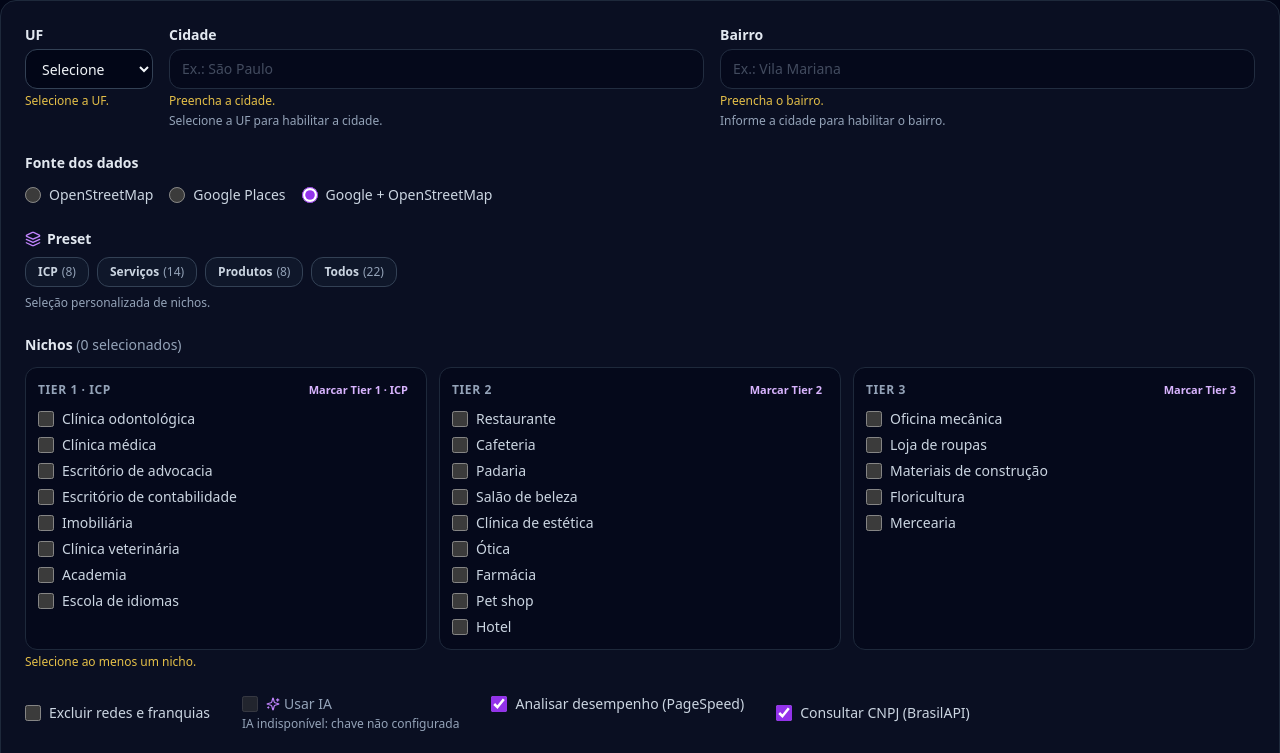
MiningForm — cascata UF → Cidade → Bairro › navega pelo teclado (seta para baixo + Enter) e escolhe a sugestão
Select "SP" in the dropdown labelled "UF" at x=89, y=69, box [25,49,153,89]
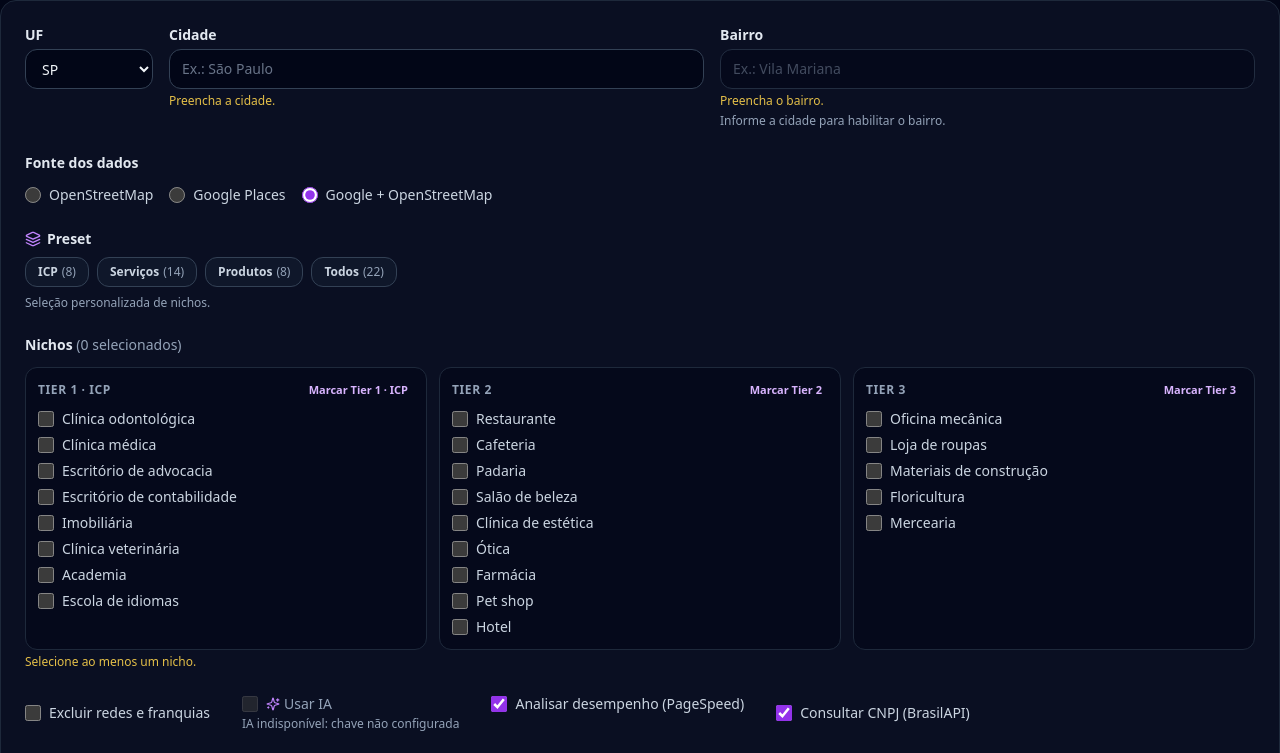
Type "sao" into the dropdown labelled "Cidade" at x=436, y=69, box [169,49,704,89]
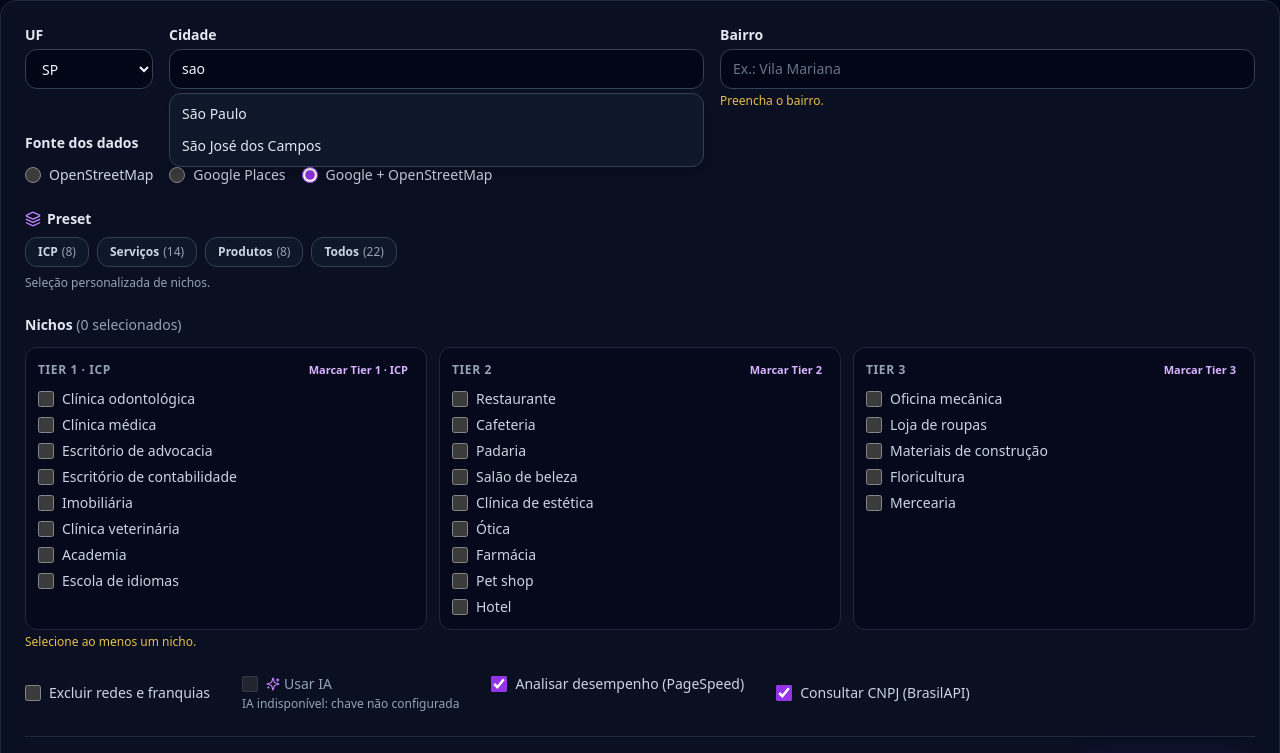
Press ArrowDown in the dropdown labelled "Cidade", box [169,49,704,89]
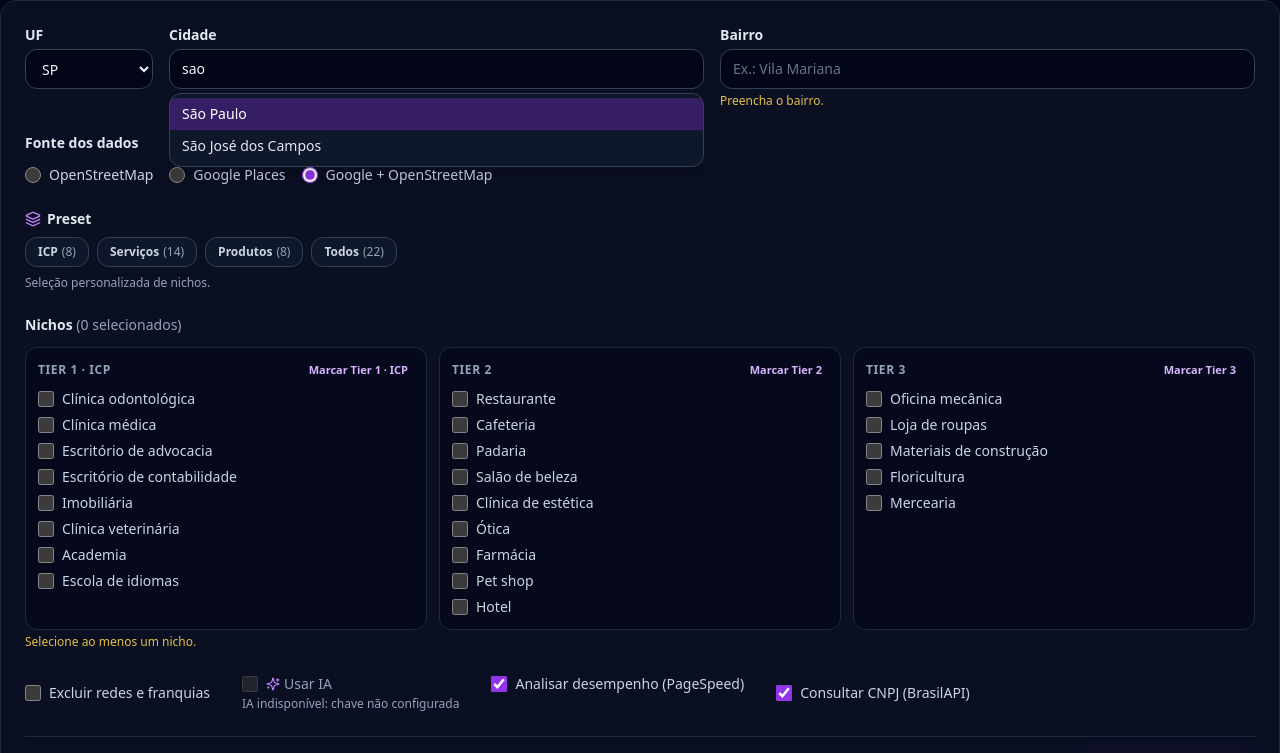
Press ArrowDown in the dropdown labelled "Cidade", box [169,49,704,89]
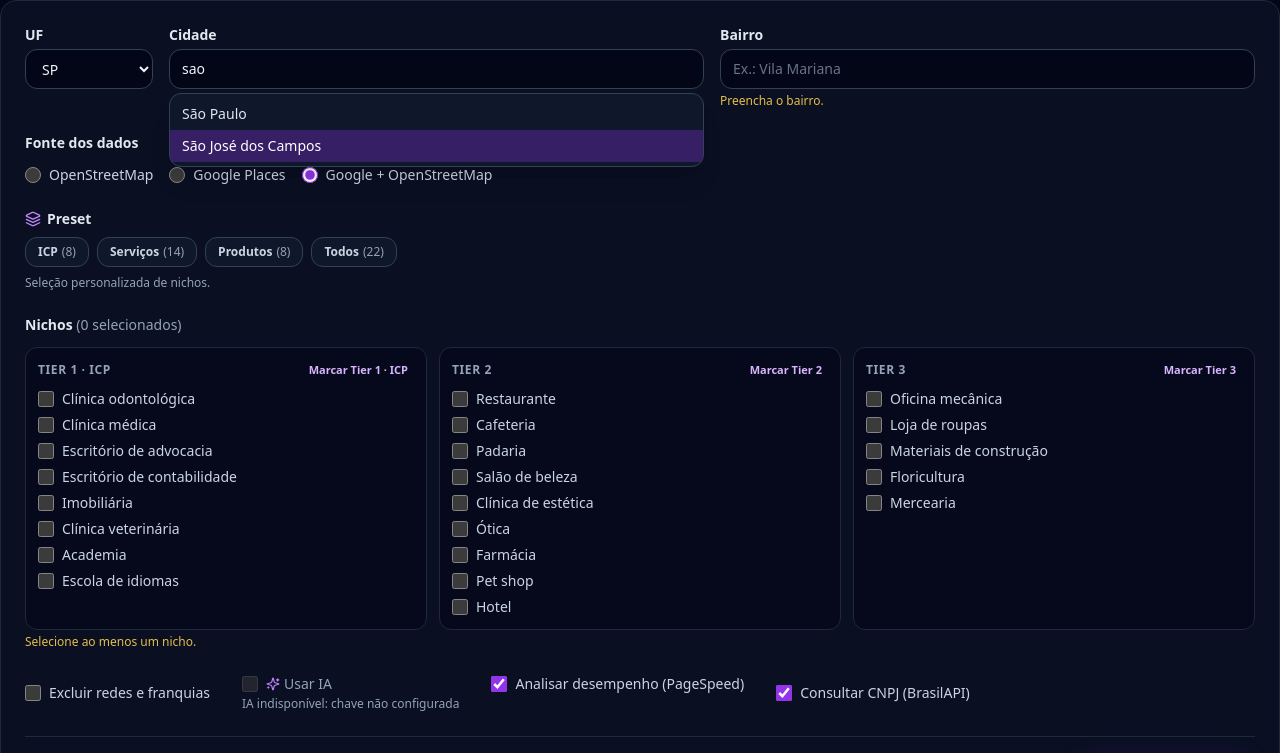
Press Enter in the dropdown labelled "Cidade", box [169,49,704,89]
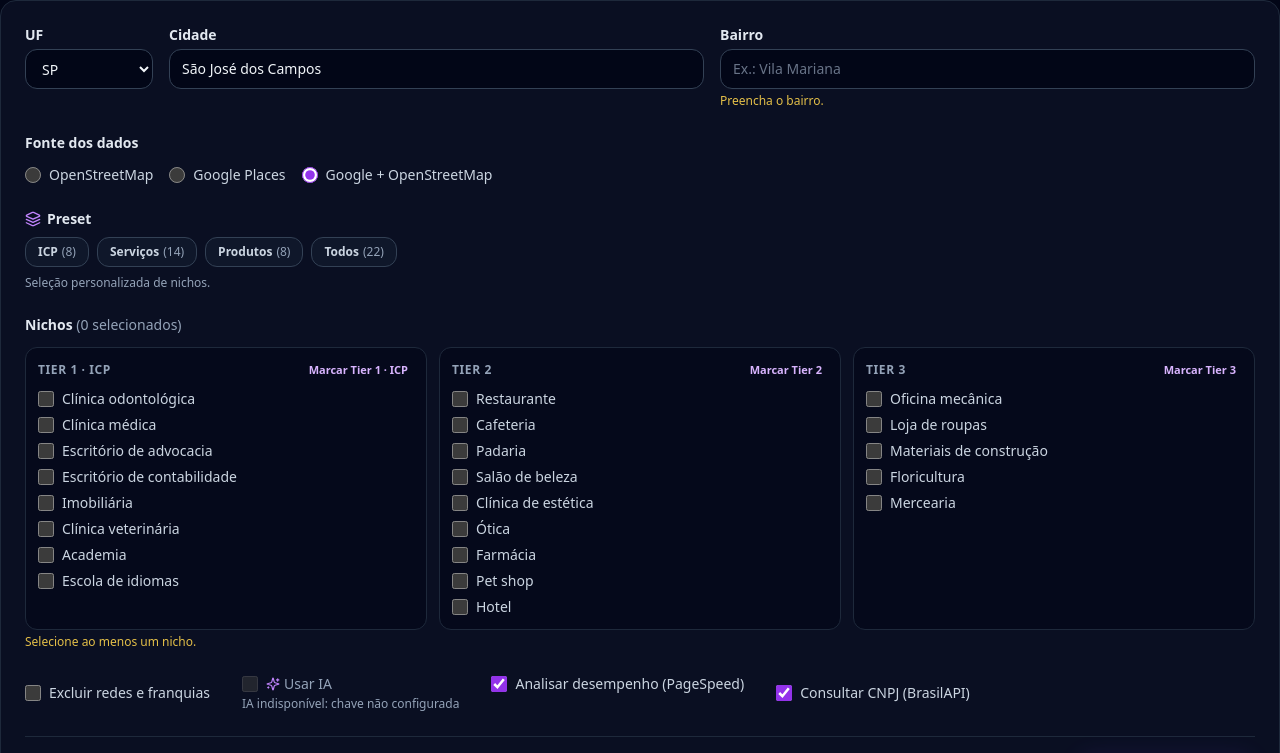
Check: the dropdown labelled "Bairro" is enabled, box [720,49,1255,89]
Check: the dropdown labelled "Cidade" holds "São José dos Campos", box [169,49,704,89]
